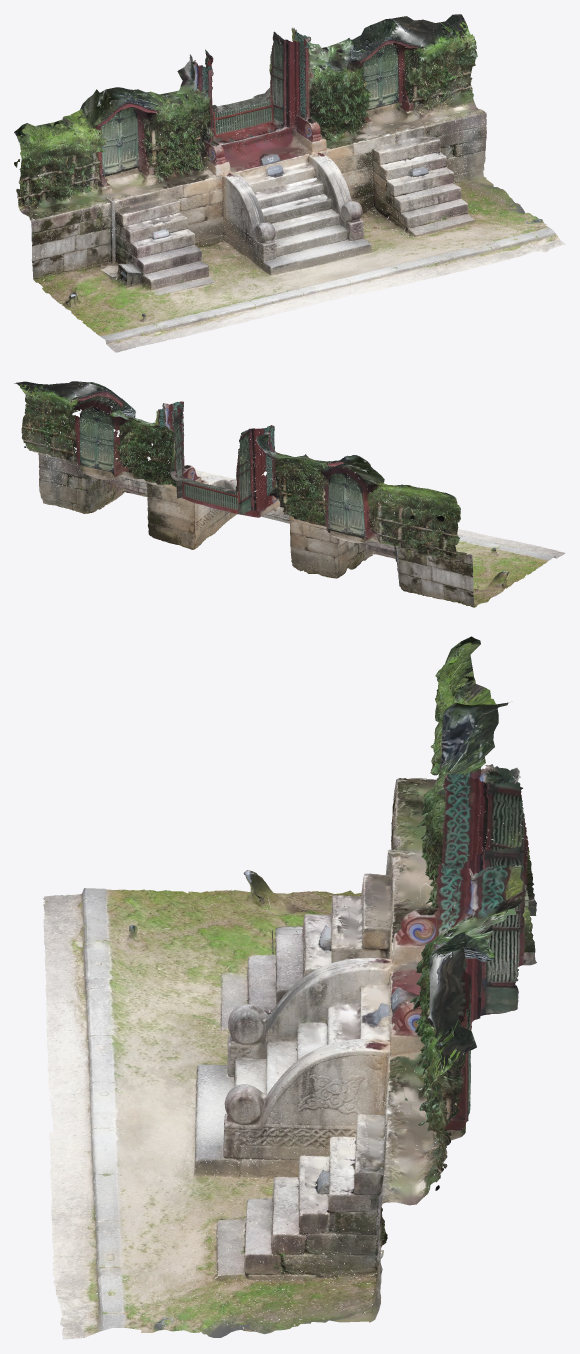
The model's file is huwon_eosu.glb.
3 renders of one model, top to bottom at view 1: azimuth 30°, elevation 25°; view 2: azimuth 150°, elevation 25°; view 3: azimuth 270°, elevation 25°, orthographic. The views are drawn at different scales.
Parts seen in each view (by area): view 1: Object_12, Object_7, Object_5, Object_13, Object_2, Object_3, Object_8, Object_6, Object_4, Object_15, Object_11, Object_10 (+3 smaller); view 2: Object_8, Object_15, Object_7, Object_14, Object_16, Object_4, Object_6, Object_11, Object_13, Object_3, Object_9, Object_12 (+3 smaller); view 3: Object_10, Object_5, Object_2, Object_11, Object_12, Object_4, Object_3, Object_16, Object_6, Object_14, Object_7, Object_9 (+3 smaller).
Boxes of the visible parts, box(x1,y1,x2,y2) form: Object_12: box(197, 37, 384, 288); Object_7: box(32, 16, 549, 273); Object_5: box(78, 184, 328, 330); Object_13: box(25, 83, 286, 328); Object_2: box(256, 178, 565, 278); Object_3: box(328, 41, 479, 223); Object_8: box(14, 59, 346, 310); Object_6: box(25, 49, 243, 314); Object_4: box(153, 18, 463, 306); Object_15: box(15, 36, 422, 295); Object_11: box(297, 14, 504, 246); Object_10: box(279, 196, 545, 293); Object_8: box(171, 428, 510, 606); Object_15: box(68, 388, 492, 607); Object_7: box(21, 381, 467, 554); Object_14: box(22, 381, 462, 561); Object_16: box(30, 384, 565, 592); Object_4: box(30, 382, 382, 542); Object_6: box(238, 425, 473, 602); Object_11: box(14, 381, 236, 536); Object_13: box(202, 451, 537, 602); Object_3: box(25, 394, 208, 549); Object_9: box(103, 394, 513, 578); Object_12: box(102, 403, 315, 573); Object_10: box(49, 1073, 348, 1324); Object_5: box(45, 896, 347, 1103); Object_2: box(60, 1017, 349, 1339); Object_11: box(150, 955, 476, 1323); Object_12: box(79, 924, 522, 1149); Object_4: box(48, 887, 536, 1155); Object_3: box(263, 1051, 470, 1325); Object_16: box(43, 825, 517, 1146); Object_6: box(54, 767, 526, 1007); Object_14: box(50, 681, 504, 1319); Object_7: box(69, 702, 508, 1333); Object_9: box(45, 764, 536, 1134).
Bounding box in the file's own units: 20.34 × 7.26 × 9.75.
Materials: 2 (2 with a texture image).
